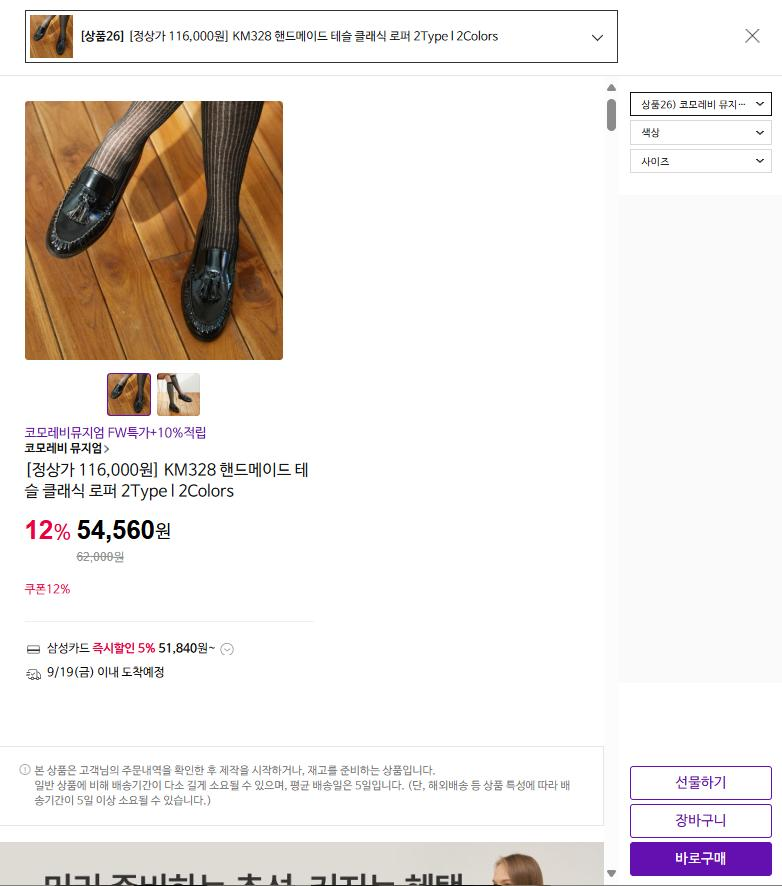button: (629, 803, 773, 838), (629, 766, 772, 801), (630, 841, 774, 875), (738, 20, 770, 50)
checkbox: (24, 8, 619, 61), (629, 90, 771, 115), (631, 120, 772, 145), (630, 148, 771, 173), (216, 639, 239, 662)
